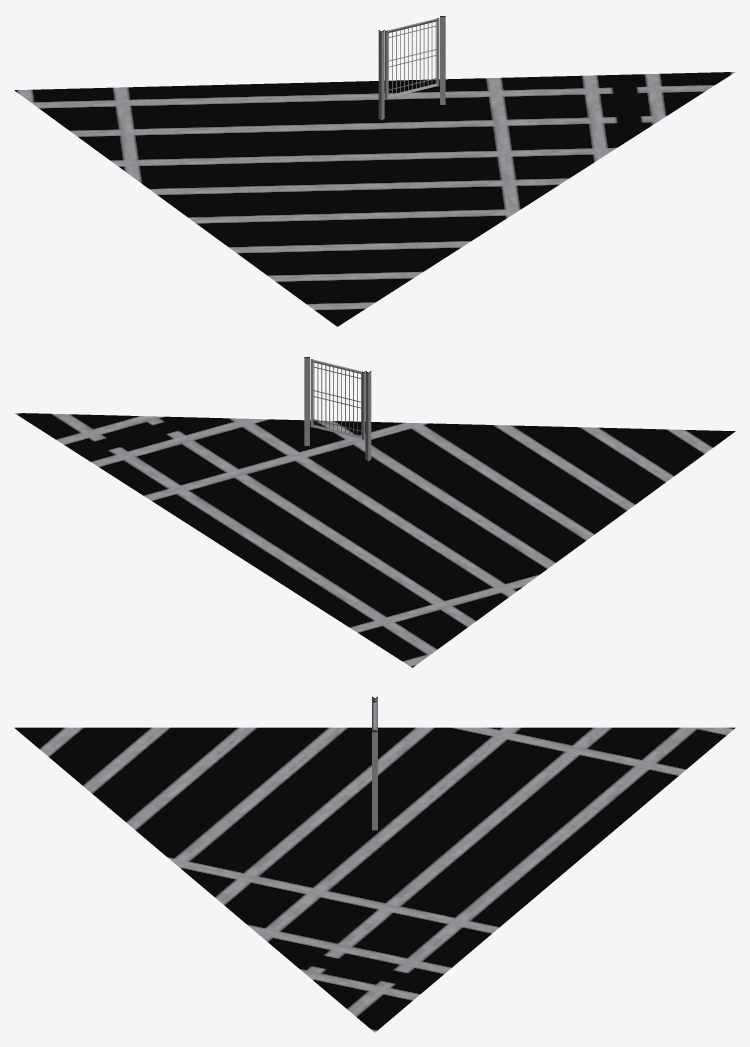
File: fence-mesh-grey-gate-1m-cbj_LOD02.gltf
3 views of the same model, one above another, from view 1: azimuth 30°, elevation 25°; view 2: azimuth 150°, elevation 25°; view 3: azimuth 270°, elevation 25° (orthographic). The views are drawn at different scales.
Visible parts, largest first — view 1: post.004; view 2: post.004; view 3: post.004.
Part boxes in pixels (x1,y1,x2,y2): post.004: (14, 16, 735, 326); post.004: (14, 357, 735, 667); post.004: (14, 696, 735, 1032).
Bounding box in the file's own units: 10.56 × 2.31 × 10.56.
